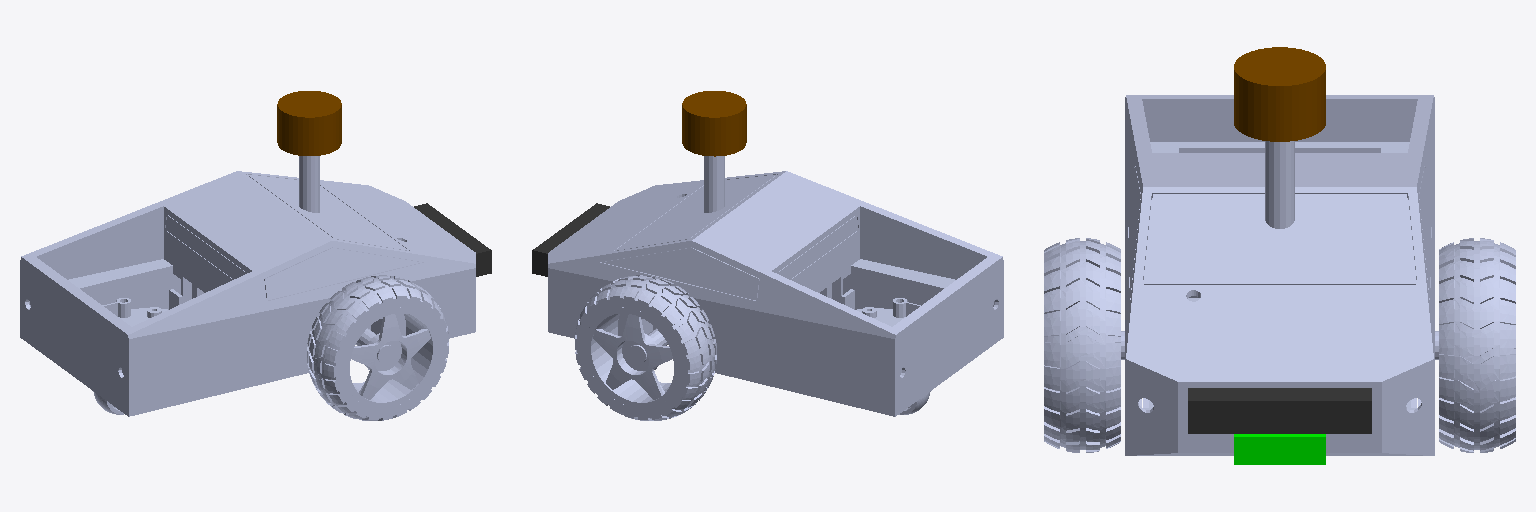
URDF robot description (mycar):
<?xml version="1.0" encoding="utf-8"?>
<!--
This URDF was automatically created by SolidWorks to URDF Exporter! Originally created by [author] ([email redacted])
Commit Version: 1.5.1-0-g916b5db  Build Version: 1.5.7152.31018
For more information, please see http://wiki.ros.org/sw_urdf_exporter
-->
<robot name="mycar">
	<link name="base_link">
		<inertial>
			<origin xyz="-0.0348720276746789 6.58769714060009E-06 0.048324291447554" rpy="0 0 0" />
			<mass value="0.178260195558643" />
			<inertia ixx="0.000230154941965817" ixy="-8.0361911216892E-08" ixz="-4.31818095340187E-06" iyy="0.000613729699395584" iyz="-1.44805733832134E-08" izz="0.000776596126087211" />
		</inertial>
		<visual>
			<origin xyz="0 0 0" rpy="0 0 0" />
			<geometry>
				<mesh filename="package://car_gazebo/meshes/base_link.STL" />
			</geometry>
			<material name="">
				<color rgba="0.792156862745098 0.819607843137255 0.933333333333333 1" />
			</material>
		</visual>
		<collision>
			<origin xyz="0 0 0" rpy="0 0 0" />
			<geometry>
				<mesh filename="package://car_gazebo/meshes/base_link.STL" />
			</geometry>
		</collision>
	</link>
	<gazebo reference="base_link">
		<material>
			Gazebo/Yellow
		</material>
	</gazebo>
	<link name="camera">
		<inertial>
			<origin xyz="3.5747084421697E-18 0.005 0.005" rpy="0 0 0" />
			<mass value="0.003" />
			<inertia ixx="4.99999999999999E-08" ixy="2.39286807599343E-25" ixz="2.91245220305501E-24" iyy="2.5E-07" iyz="-2.10611213030835E-24" izz="2.5E-07" />
		</inertial>
		<visual>
			<origin xyz="0 0 0" rpy="0 0 0" />
			<geometry>
				<mesh filename="package://car_gazebo/meshes/camera.STL" />
			</geometry>
			<material name="">
				<color rgba="0 1 0 1" />
			</material>
		</visual>
		<collision>
			<origin xyz="0 0 0" rpy="0 0 0" />
			<geometry>
				<mesh filename="package://car_gazebo/meshes/camera.STL" />
			</geometry>
		</collision>
	</link>
	<gazebo reference="camera">
		<material>
			Gazebo/Gray
		</material>
	</gazebo>
	<joint name="camera2base" type="fixed">
		<origin xyz="0.0708 0 0.03" rpy="1.5707963267949 0 1.5707963267949" />
		<parent link="base_link" />
		<child link="camera" />
		<axis xyz="0 0 0" />
	</joint>
	<link name="kinect">
		<inertial>
			<origin xyz="-3.82553607367537E-18 0.006 0.00499999999999999" rpy="0 0 0" />
			<mass value="0.0072" />
			<inertia ixx="1.464E-07" ixy="-6.38484852373091E-23" ixz="2.46364050217965E-23" iyy="2.22E-06" iyz="-1.74259382377838E-23" izz="2.2464E-06" />
		</inertial>
		<visual>
			<origin xyz="0 0 0" rpy="0 0 0" />
			<geometry>
				<mesh filename="package://car_gazebo/meshes/kinect.STL" />
			</geometry>
			<material name="">
				<color rgba="0.250980392156863 0.250980392156863 0.250980392156863 1" />
			</material>
		</visual>
		<collision>
			<origin xyz="0 0 0" rpy="0 0 0" />
			<geometry>
				<mesh filename="package://car_gazebo/meshes/kinect.STL" />
			</geometry>
		</collision>
	</link>
  <gazebo reference="kinect">
		<material>
			Gazebo/Green
		</material>
	</gazebo>
	<joint name="kinect2base" type="fixed">
		<origin xyz="0.0708 0 0.041" rpy="1.5707963267949 0 1.5707963267949" />
		<parent link="base_link" />
		<child link="kinect" />
		<axis xyz="0 0 0" />
	</joint>
	<link name="support">
		<inertial>
			<origin xyz="4.83117026110787E-35 0.04 8.67361737988404E-19" rpy="0 0 0" />
			<mass value="0.00628318530717959" />
			<inertia ixx="3.39030207199899E-06" ixy="-2.42841104008608E-39" ixz="9.09020517961032E-55" iyy="7.85398163397448E-08" iyz="2.29588740394978E-39" izz="3.39030207199899E-06" />
		</inertial>
		<visual>
			<origin xyz="0 0 0" rpy="0 0 0" />
			<geometry>
				<mesh filename="package://car_gazebo/meshes/support.STL" />
			</geometry>
			<material name="">
				<color rgba="0.792156862745098 0.819607843137255 0.933333333333333 1" />
			</material>
		</visual>
		<collision>
			<origin xyz="0 0 0" rpy="0 0 0" />
			<geometry>
				<mesh filename="package://car_gazebo/meshes/support.STL" />
			</geometry>
		</collision>
	</link>
	<joint name="support2base" type="fixed">
		<origin xyz="0 0 0.035" rpy="1.5707963267949 0 1.5707963267949" />
		<parent link="base_link" />
		<child link="support" />
		<axis xyz="0 0 0" />
	</joint>
	<link name="laser">
		<inertial>
			<origin xyz="1.44935107833236E-34 0.01 -2.60208521396521E-18" rpy="0 0 0" />
			<mass value="0.0141371669411541" />
			<inertia ixx="1.26645453847839E-06" ixy="-4.09794363014526E-39" ixz="2.56051138736021E-54" iyy="1.59043128087983E-06" iyz="-3.15672903293977E-39" izz="1.26645453847839E-06" />
		</inertial>
		<visual>
			<origin xyz="0 0 0" rpy="0 0 0" />
			<geometry>
				<mesh filename="package://car_gazebo/meshes/laser.STL" />
			</geometry>
			<material name="">
				<color rgba="0.5 0.3 0.0 1" />
			</material>
		</visual>
		<collision>
			<origin xyz="0 0 0" rpy="1.5707 0 0" />
			<geometry>
				<mesh filename="package://car_gazebo/meshes/laser.STL" />
			</geometry>
		</collision>
	</link>
  <gazebo reference="laser">
		<material>
			Gazebo/Gray
		</material>
	</gazebo>
	<joint name="laser2support" type="fixed">
		<origin xyz="0 0.08 0" rpy="0 0 0" />
		<parent link="support" />
		<child link="laser" />
		<axis xyz="0 0 0" />
	</joint>
	<link name="left_wheel">
		<inertial>
			<!-- xyz="0.0121431260340735 2.13116560308264E-14 -6.68042010598668E-15" -->
			<origin xyz="0.012 0 0" rpy="0 0 0" />
			<mass value="0.0511503917683624" />
			<inertia ixx="3.89734768733769E-05" ixy="1.13088754354773E-17" ixz="3.99998334192808E-17" iyy="2.19831293215253E-05" iyz="1.52863072021443E-18" izz="2.19834508240025E-05" />
		</inertial>
		<visual>
			<origin xyz="0 0 0" rpy="0 0 0" />
			<geometry>
				<mesh filename="package://car_gazebo/meshes/left_wheel.STL" />
			</geometry>
			<material name="">
				<color rgba="0.792156862745098 0.819607843137255 0.933333333333333 1" />
			</material>
		</visual>
		<collision>
			<origin xyz="0 0 0" rpy="0 0 0" />
			<geometry>
				<mesh filename="package://car_gazebo/meshes/left_wheel.STL" />
			</geometry>
		</collision>
	</link>
  <gazebo reference="left_wheel">
		<material>
			Gazebo/Black
		</material>
	</gazebo>
	<joint name="base_l_wheel_joint" type="continuous">
		<origin xyz="0 -0.0765 0.035" rpy="1.5707963267949 0 1.5707963267949" />
		<parent link="base_link" />
		<child link="left_wheel" />
		<axis xyz="-1 0 0" />
	</joint>
	<link name="right_wheel">
		<inertial>
			<!-- xyz="-0.0121431260340735 2.13102736975247E-14 6.71337985203024E-15" -->
			<origin xyz="-0.012 0 0" rpy="0 0 0" />
			<mass value="0.0511503917683625" />
			<inertia ixx="3.89734768733768E-05" ixy="-1.12813214048942E-17" ixz="4.03368892087235E-17" iyy="2.19831293215253E-05" iyz="-1.53472903941893E-18" izz="2.19834508240025E-05" />
		</inertial>
		<visual>
			<origin xyz="0 0 0" rpy="0 0 0" />
			<geometry>
				<mesh filename="package://car_gazebo/meshes/right_wheel.STL" />
			</geometry>
			<material name="">
				<color rgba="0.792156862745098 0.819607843137255 0.933333333333333 1" />
			</material>
		</visual>
		<collision>
			<origin xyz="0 0 0" rpy="0 0 0" />
			<geometry>
				<mesh filename="package://car_gazebo/meshes/right_wheel.STL" />
			</geometry>
		</collision>
	</link>
  <gazebo reference="right_wheel">
		<material>
			Gazebo/Black
		</material>
	</gazebo>
	<joint name="base_r_wheel_joint" type="continuous">
		<origin xyz="0 0.0765 0.035" rpy="1.5707963267949 0 1.5707963267949" />
		<parent link="base_link" />
		<child link="right_wheel" />
		<axis xyz="-1 0 0" />
	</joint>
	<link name="casterbracket">
		<inertial>
			<origin xyz="-0.00696318083900578 0.000458473678726753 -0.0112301340284787" rpy="0 0 0" />
			<mass value="0.00231472502614639" />
			<inertia ixx="2.79573383773959E-07" ixy="9.04702648525926E-09" ixz="-8.27510215395162E-08" iyy="2.9073577378625E-07" iyz="1.00447280132479E-08" izz="3.36271685165002E-07" />
		</inertial>
		<visual>
			<origin xyz="0 0 0" rpy="0 0 0" />
			<geometry>
				<mesh filename="package://car_gazebo/meshes/casterbracket.STL" />
			</geometry>
			<material name="">
				<color rgba="0.792156862745098 0.819607843137255 0.933333333333333 1" />
			</material>
		</visual>
		<collision>
			<origin xyz="0 0 0" rpy="0 0 0" />
			<geometry>
				<mesh filename="package://car_gazebo/meshes/casterbracket.STL" />
			</geometry>
		</collision>
	</link>
	<joint name="casterbracket2base" type="fixed">
		<origin xyz="-0.0867 0 0.0332" rpy="0 0 0" />
		<parent link="base_link" />
		<child link="casterbracket" />
		<axis xyz="0 0 -1" />
	</joint>
	<link name="casterwheel">
		<inertial>
			<origin xyz="1.38777878078145E-17 -1.84676829740928E-07 8.50818570163198E-07" rpy="0 0 0" />
			<mass value="0.00351970825534327" />
			<inertia ixx="1.84569835396339E-07" ixy="-4.24064557430265E-13" ixz="2.62213062059921E-23" iyy="2.95071423206008E-07" iyz="4.83363558906975E-12" izz="1.84549153267555E-07" />
		</inertial>
		<visual>
			<origin xyz="0 0 0" rpy="0 0 0" />
			<geometry>
				<mesh filename="package://car_gazebo/meshes/casterwheel.STL" />
			</geometry>
			<material name="">
				<color rgba="0.792156862745098 0.819607843137255 0.933333333333333 1" />
			</material>
		</visual>
		<collision>
			<origin xyz="0 0 0" rpy="0 0 0" />
			<geometry>
				<mesh filename="package://car_gazebo/meshes/casterwheel.STL" />
			</geometry>
		</collision>
	</link>
	<joint name="casterwheel2itsbracket" type="fixed">
		<origin xyz="-0.0155 0 -0.0207" rpy="0 0 0" />
		<parent link="casterbracket" />
		<child link="casterwheel" />
		<axis xyz="0 1 0" />
	</joint>
</robot>

--- Render facts (derived) ---
3 views of the same robot in one strip: view 1: azimuth 30°, elevation 25°; view 2: azimuth 150°, elevation 25°; view 3: azimuth 270°, elevation 25° (orthographic).
Model mycar with 9 links and 8 joints (2 continuous, 6 fixed), rooted at base_link, posed all joints at 0.
Links seen in each view (by area): view 1: base_link, left_wheel, laser, kinect, support; view 2: base_link, right_wheel, laser, kinect, support; view 3: base_link, left_wheel, right_wheel, kinect, laser, camera, support.
Link boxes in pixels (x1=…): base_link: x1=20, y1=171, x2=475, y2=416; left_wheel: x1=307, y1=275, x2=448, y2=420; laser: x1=277, y1=91, x2=341, y2=155; kinect: x1=414, y1=203, x2=491, y2=276; support: x1=299, y1=156, x2=319, y2=212; base_link: x1=548, y1=171, x2=1003, y2=416; right_wheel: x1=575, y1=275, x2=716, y2=420; laser: x1=682, y1=91, x2=746, y2=156; kinect: x1=532, y1=203, x2=609, y2=276; support: x1=704, y1=156, x2=724, y2=212; base_link: x1=1125, y1=95, x2=1434, y2=455; left_wheel: x1=1044, y1=238, x2=1124, y2=452; right_wheel: x1=1435, y1=238, x2=1515, y2=452; kinect: x1=1188, y1=388, x2=1371, y2=433; laser: x1=1234, y1=47, x2=1325, y2=141; camera: x1=1234, y1=434, x2=1325, y2=464; support: x1=1265, y1=141, x2=1294, y2=228.
Size in the robot's own frame: 0.2075 by 0.153 by 0.135 metres.
9 mesh visuals loaded from 9 distinct referenced files (9 binary STL).
